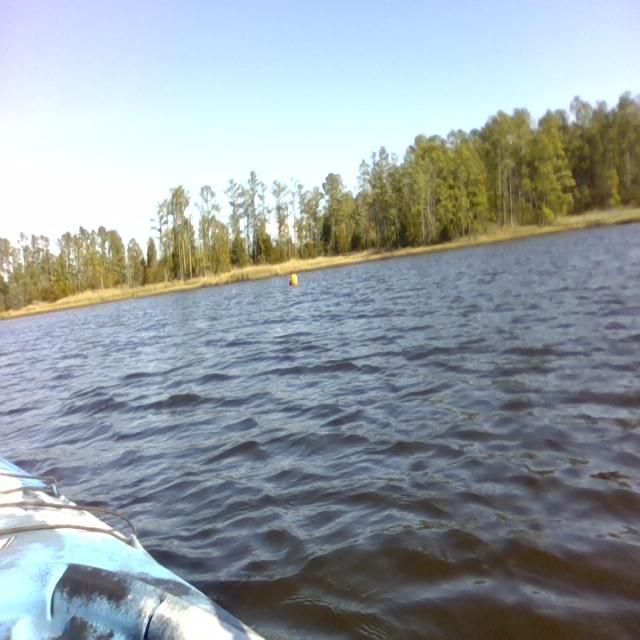Buoy: (286, 268, 302, 292)
